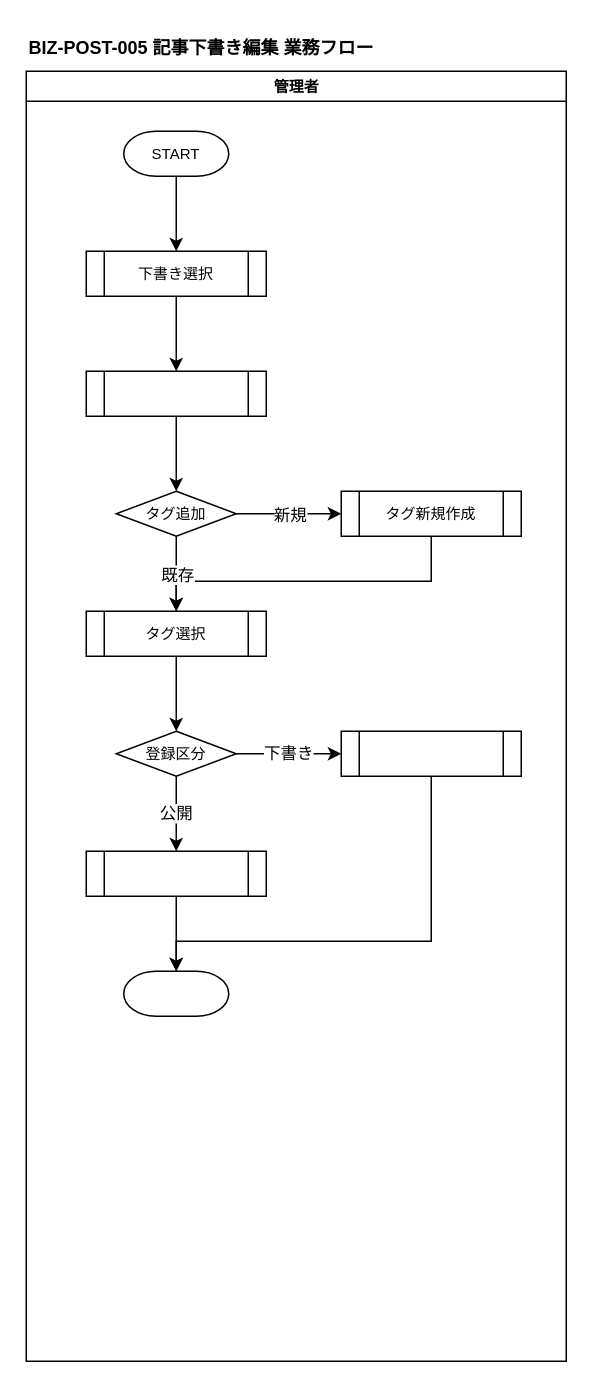
This 593x1388 diagram has some shape labels left out. Each missing label, with the centre of its shape:
"END" goes at point 175,993.
"下書き保存" goes at point 430,753.
"下書き編集" goes at point 175,393.
"公開記事登録" goes at point 175,873.
